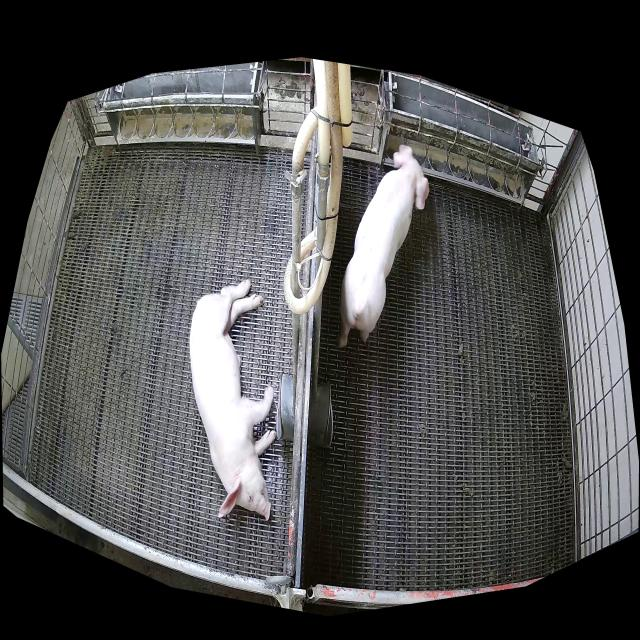pig: (190, 284, 275, 519), (340, 144, 430, 349)
